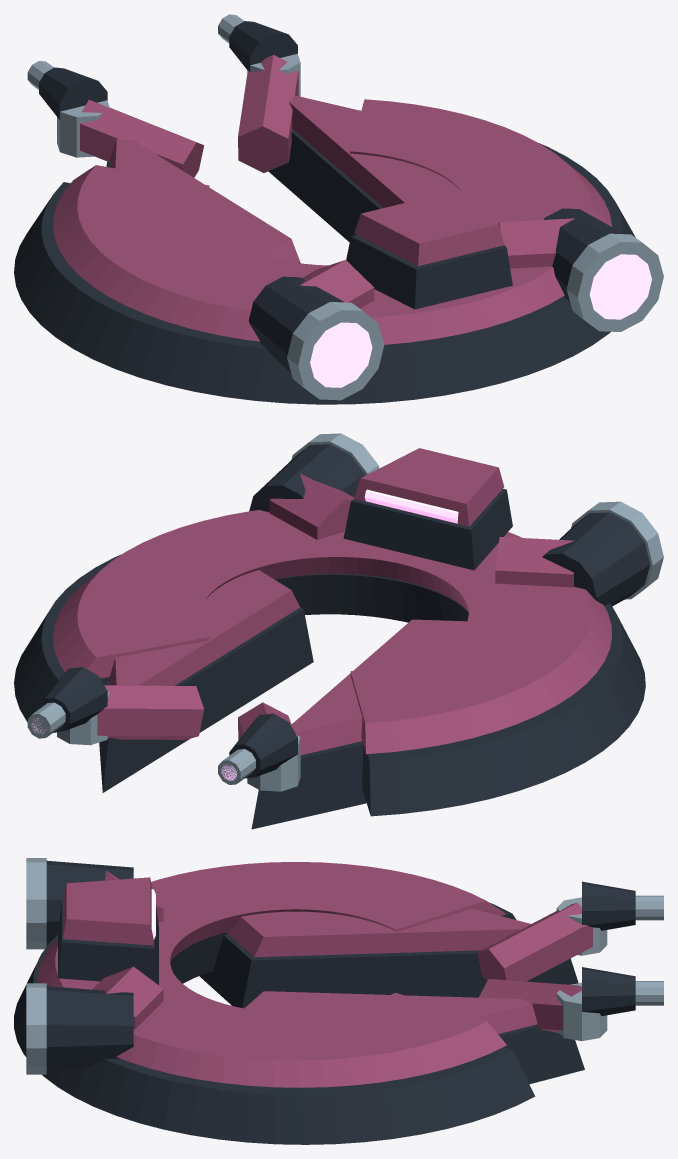
Rendered from c2_miniHive.glb.
3 renders of one model, top to bottom at view 1: azimuth 30°, elevation 25°; view 2: azimuth 150°, elevation 25°; view 3: azimuth 270°, elevation 25°, orthographic. The views are drawn at different scales.
Parts seen in each view (by area): view 1: miniHive / Armor, miniHive / Chassis, miniHive / Titanium, miniHive / Energy; view 2: miniHive / Armor, miniHive / Chassis, miniHive / Titanium, miniHive / Energy; view 3: miniHive / Armor, miniHive / Chassis, miniHive / Titanium.
Boxes of the visible parts, x1,y1,x2,y2 form: miniHive / Armor: (53, 55, 611, 344); miniHive / Chassis: (14, 21, 635, 404); miniHive / Titanium: (27, 14, 663, 400); miniHive / Energy: (310, 254, 651, 387); miniHive / Armor: (53, 448, 611, 755); miniHive / Chassis: (14, 444, 650, 829); miniHive / Titanium: (27, 433, 663, 791); miniHive / Energy: (31, 489, 458, 780); miniHive / Armor: (38, 862, 592, 1087); miniHive / Chassis: (14, 860, 635, 1144); miniHive / Titanium: (26, 858, 663, 1074).
Size of the model in its own units: 1.84 by 0.473 by 2.06.
